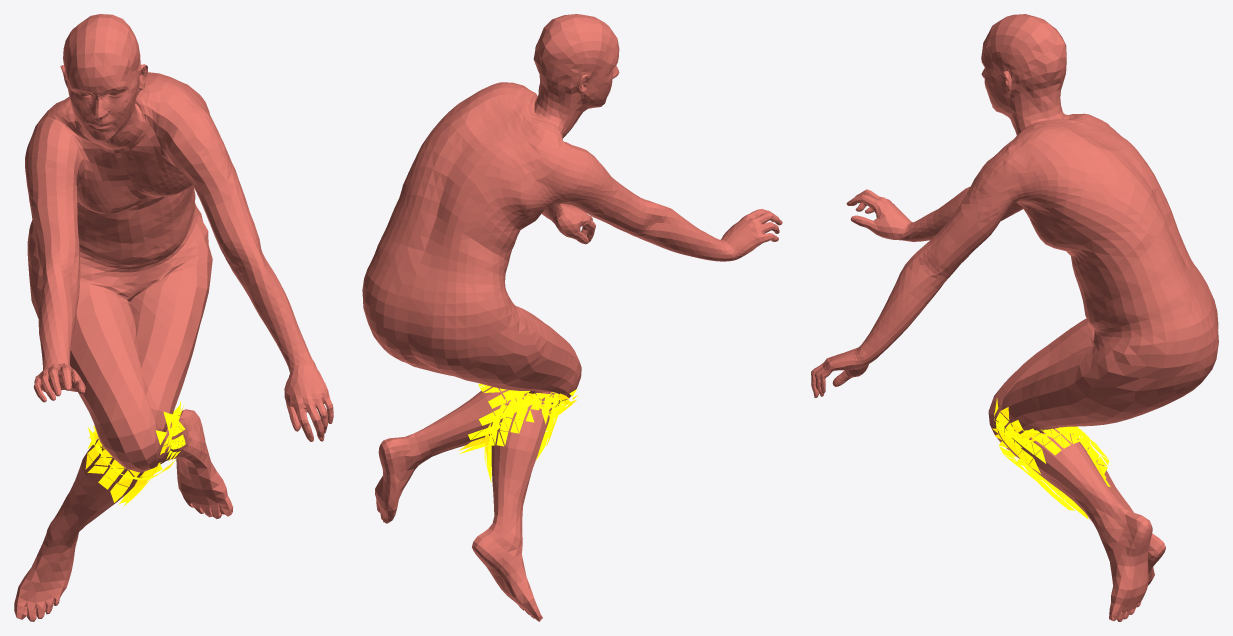
File: hwc_collision_03.glb
3 renders of one model, left to right at view 1: azimuth 30°, elevation 25°; view 2: azimuth 150°, elevation 25°; view 3: azimuth 270°, elevation 25°, orthographic. The views are drawn at different scales.
Parts seen in each view (by area): view 1: hwc_collision, collision_marker; view 2: hwc_collision, collision_marker; view 3: hwc_collision, collision_marker.
Boxes of the visible parts, x1,y1,x2,y2 form: hwc_collision: [14, 14, 333, 621]; collision_marker: [85, 401, 185, 506]; hwc_collision: [362, 14, 782, 621]; collision_marker: [459, 383, 578, 482]; hwc_collision: [811, 14, 1218, 621]; collision_marker: [992, 398, 1110, 519].
Size of the model in its own units: 0.7689 by 1.45 by 0.9109.
